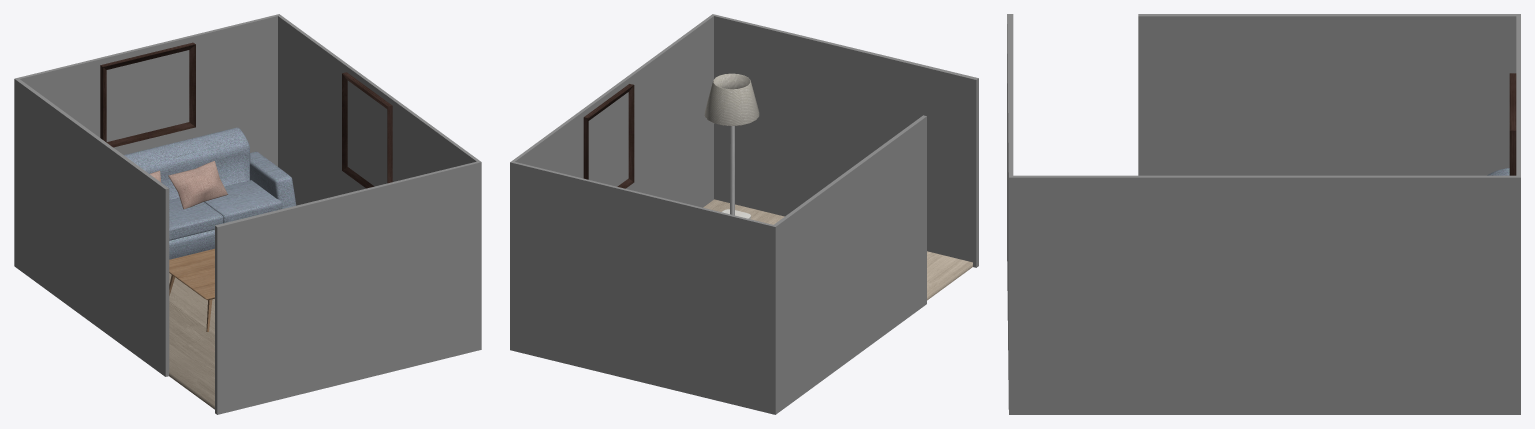
Rendered from EmulatorRoom.FBX.
3 renders of one model, left to right at view 1: azimuth 30°, elevation 25°; view 2: azimuth 150°, elevation 25°; view 3: azimuth 270°, elevation 25°, orthographic. The views are drawn at different scales.
Visible parts, largest first — view 1: room; view 2: room; view 3: room.
Part boxes in pixels (x1,y1,x2,y2): room: (14,14,481,414); room: (510,14,978,414); room: (1007,14,1520,414).
Size of the model in its own units: 308 by 208 by 409.
